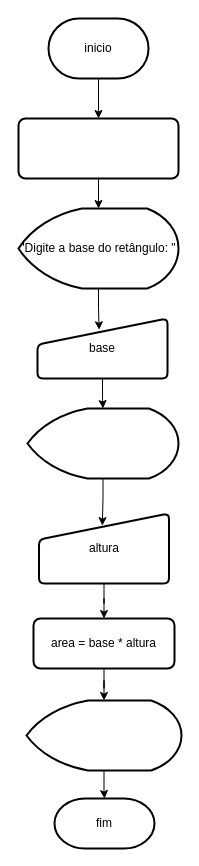
This 199x866 diagram has some shape labels left out. The centre of each missing label's shape, as x and y in pixels:
"A área do retângulo é ", area: pixel 103 735
"Digite a altura do retângulo: ": pixel 102 443
real base, altura, area: pixel 98 148
